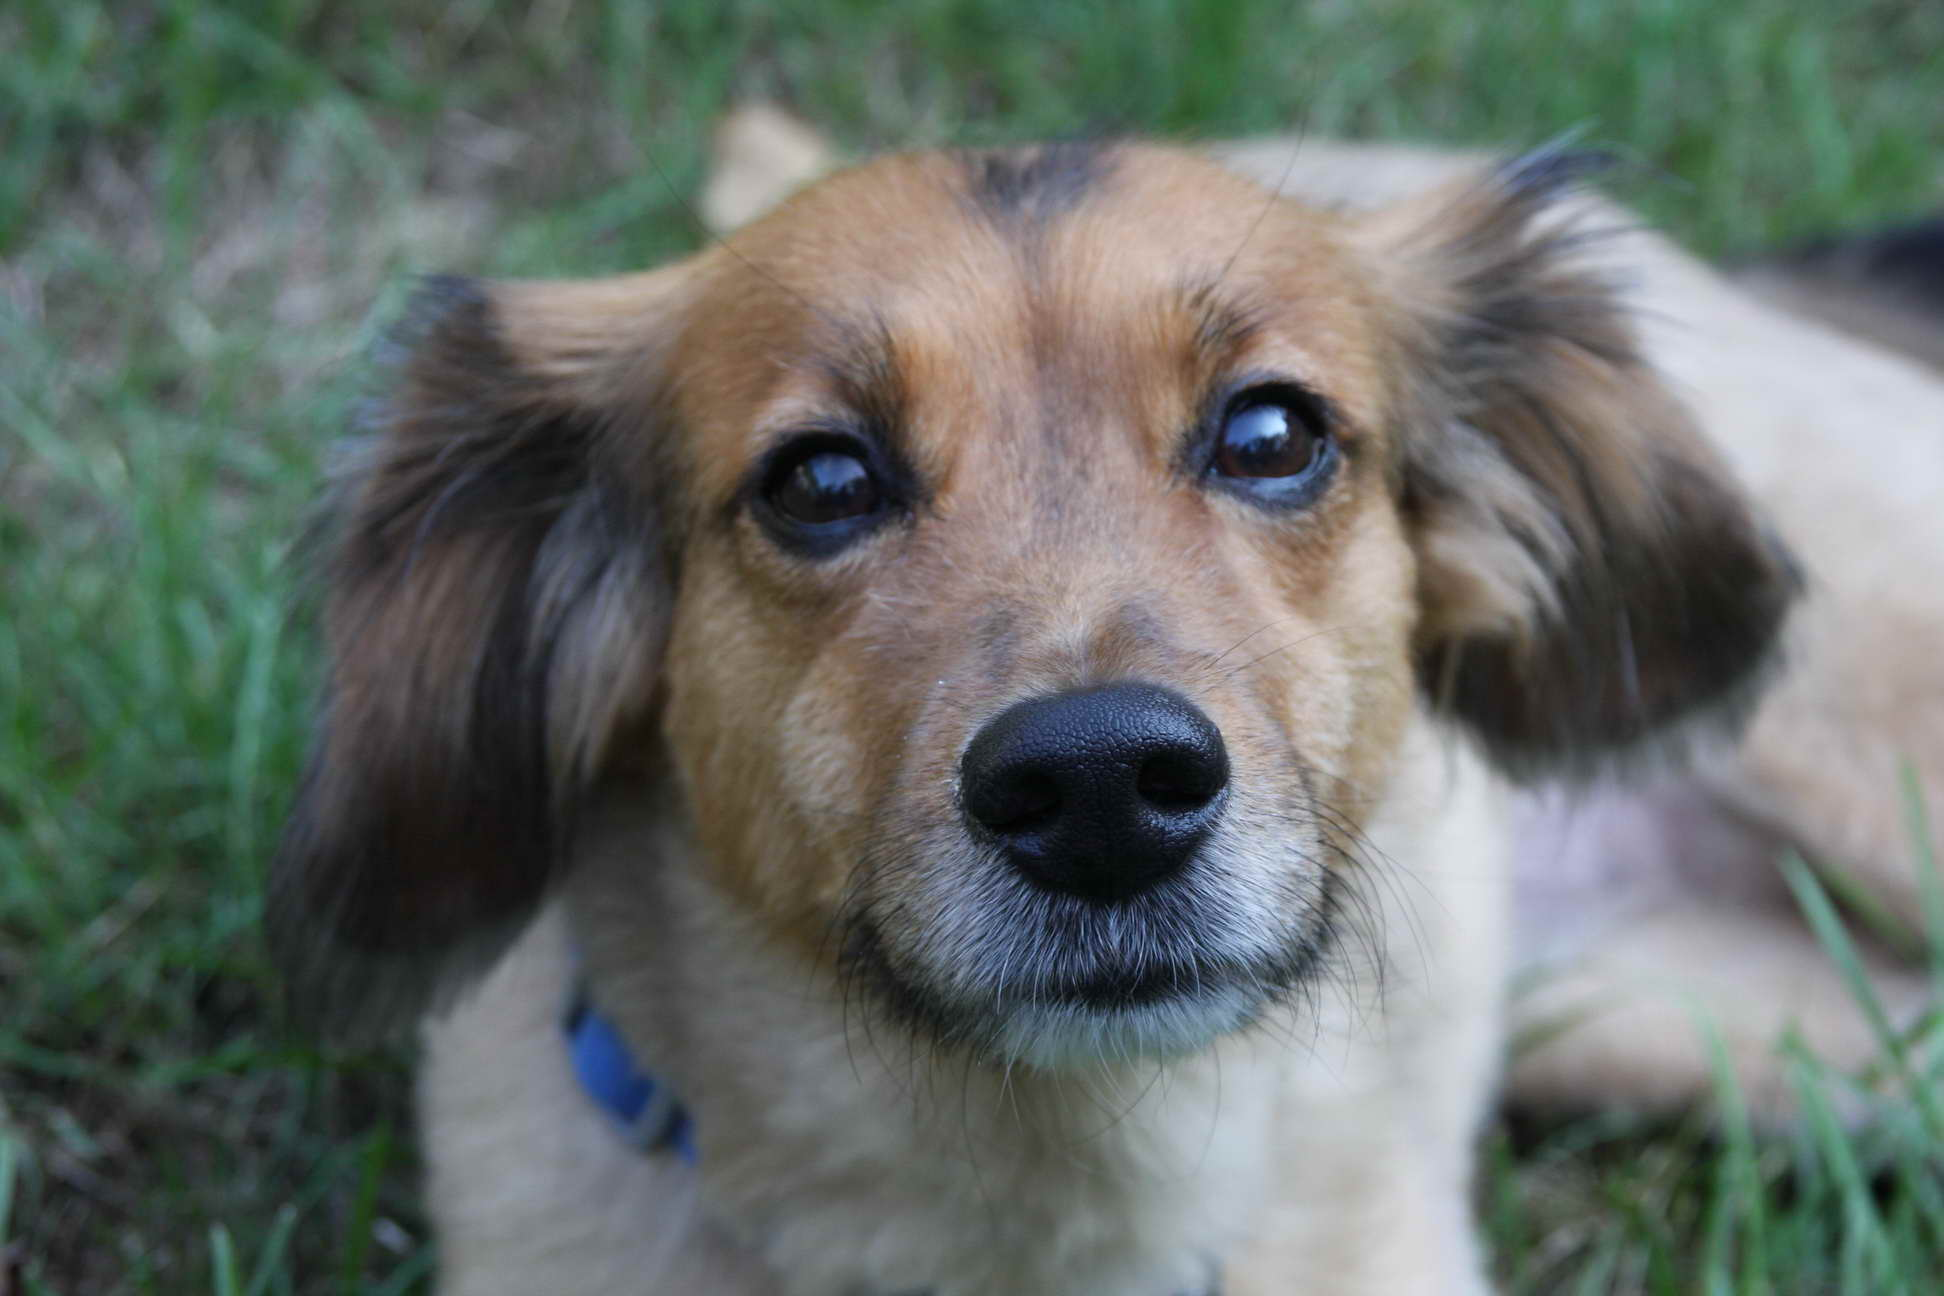dog: (283, 124, 1817, 1296)
